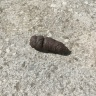Dog: (31, 35, 71, 55)
